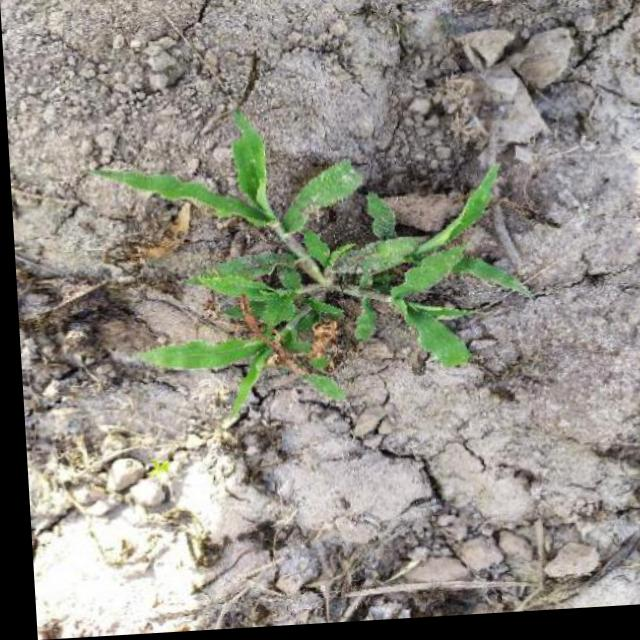weed: (86, 105, 526, 445)
